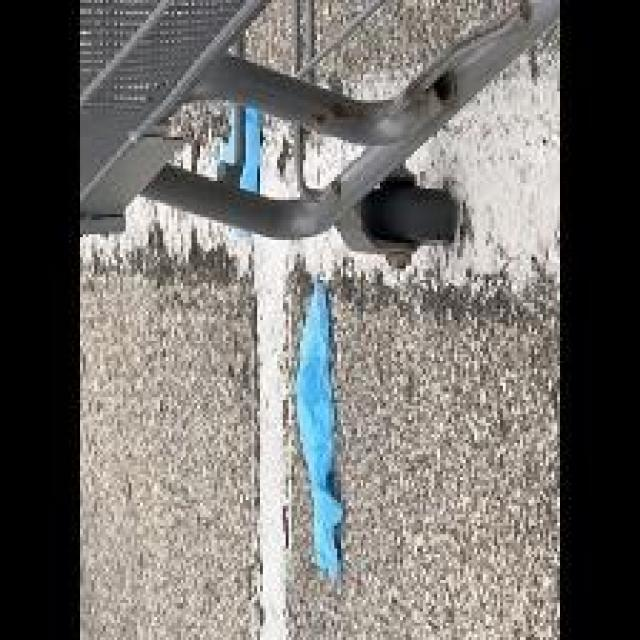Mask: (269, 285, 390, 588)
